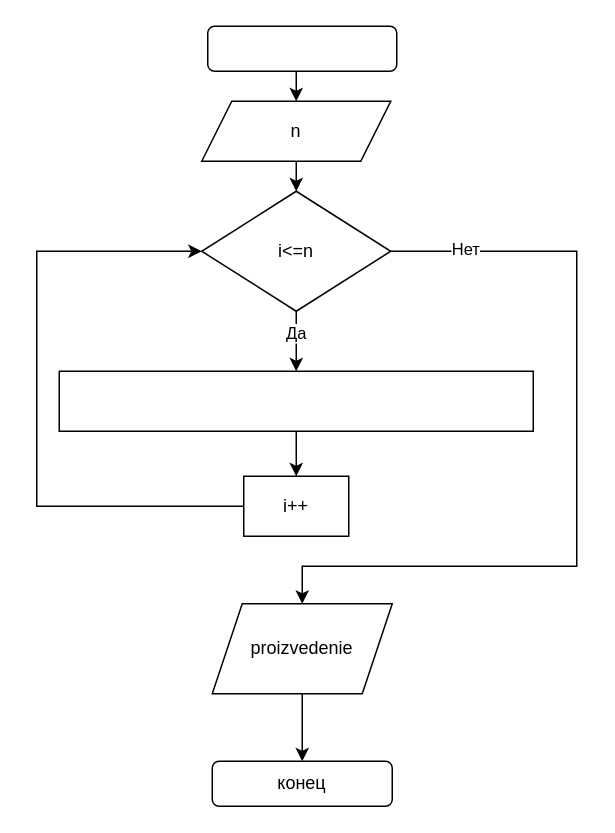
The diagram is 615 pixels wide and 833 high, and some of its shapes have lost their labels. The shapes that lost their labels are listed below. From the top down, each one's centre as x and y in pixels, then its label:
point (301, 48): начало
point (295, 400): proizvedenie *= 1.0 - (1.0 / (2. * i));
